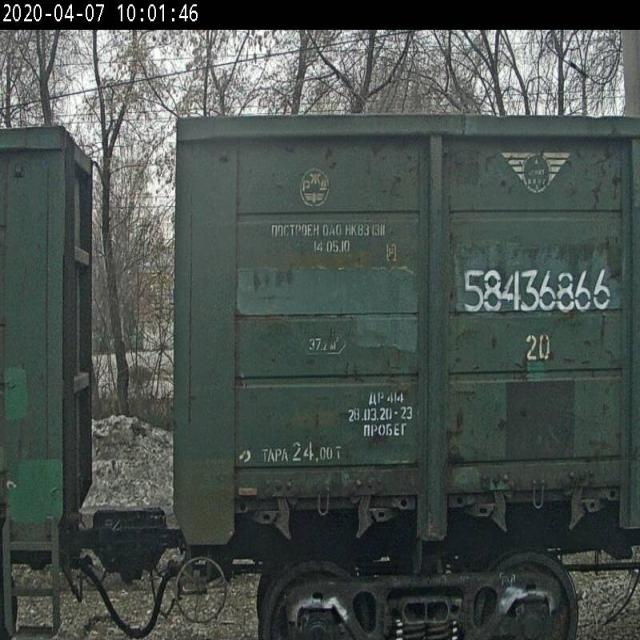gondola: (154, 93, 640, 640), (0, 97, 114, 640)
